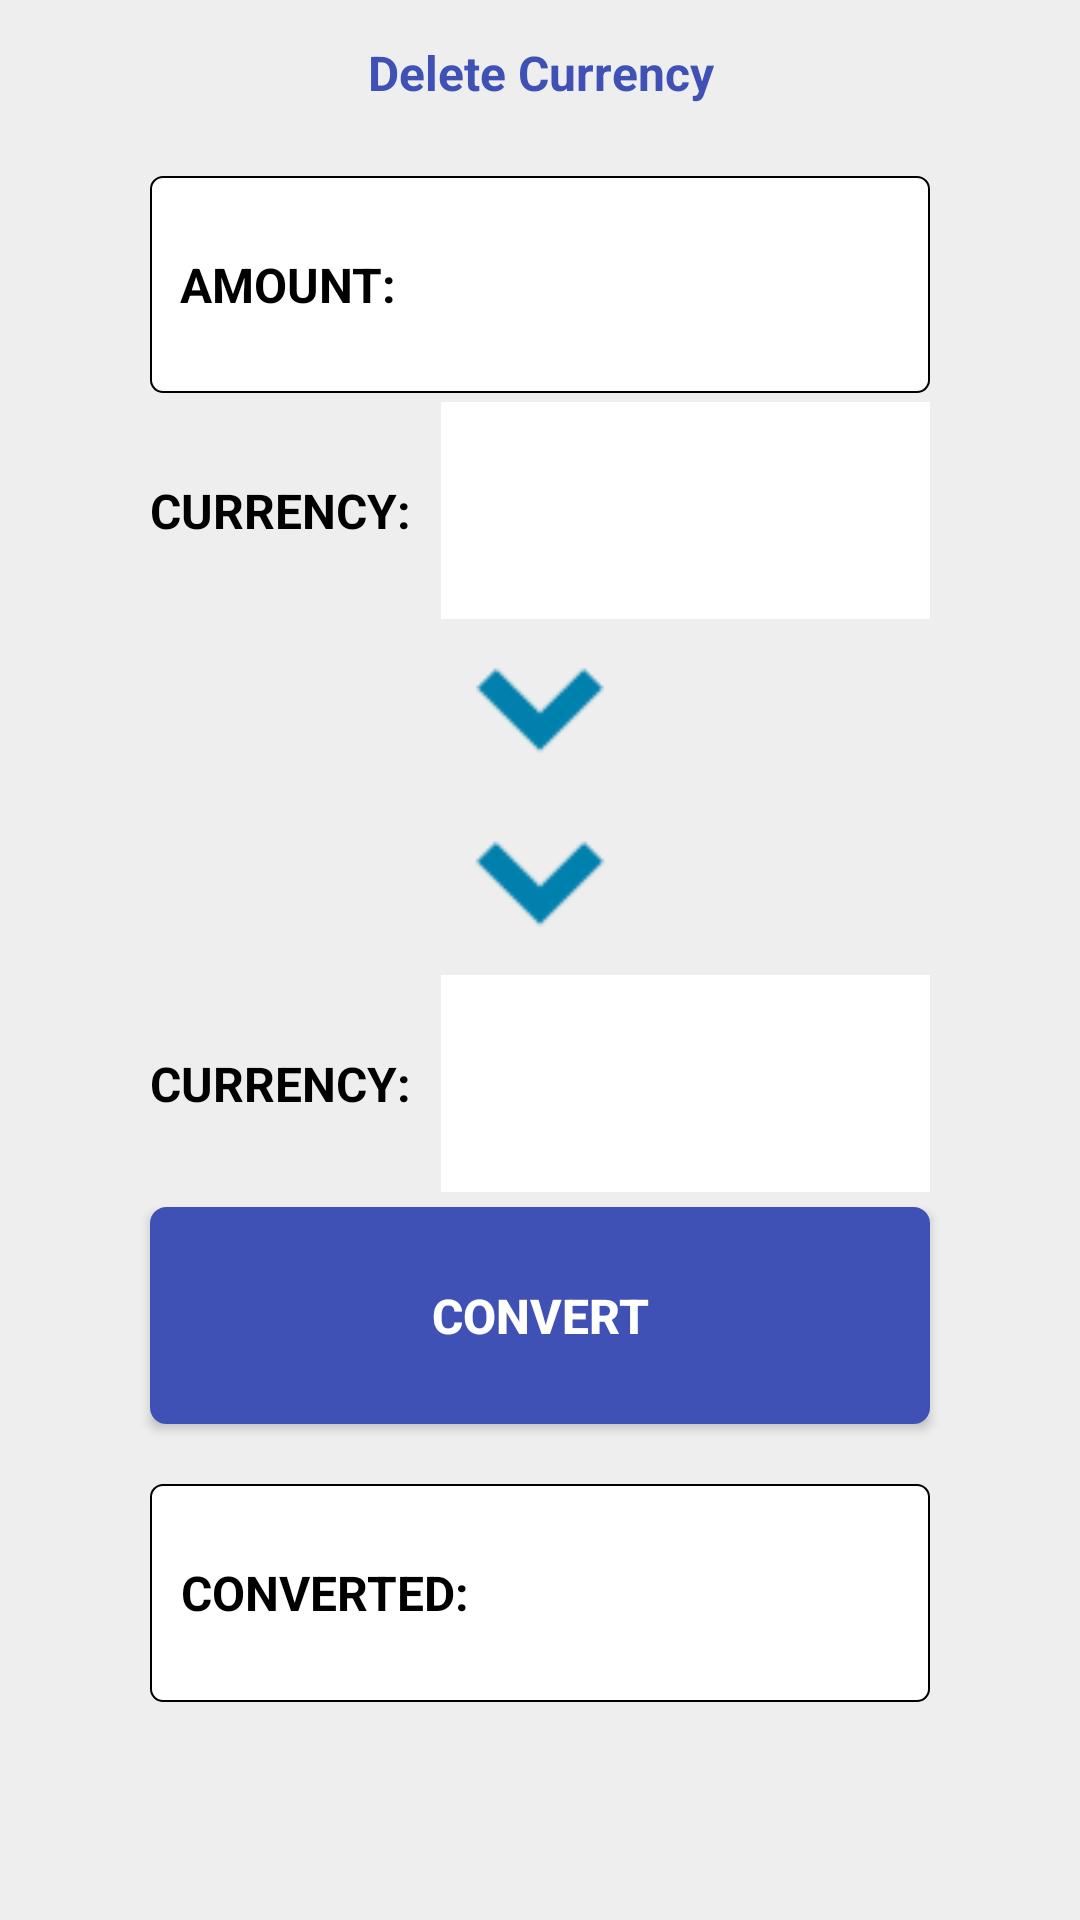

Screen size 1080w x 1920h. Icon name, then its box in pixels as (x1, y1, x2, y2):
chev down: (476, 668, 604, 752), (476, 841, 604, 926)
